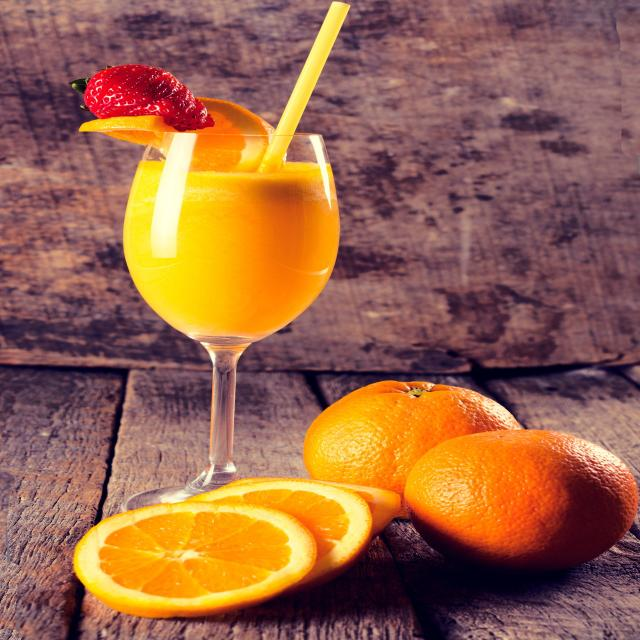orange: (56, 475, 410, 620), (396, 427, 636, 573), (296, 380, 530, 520)
